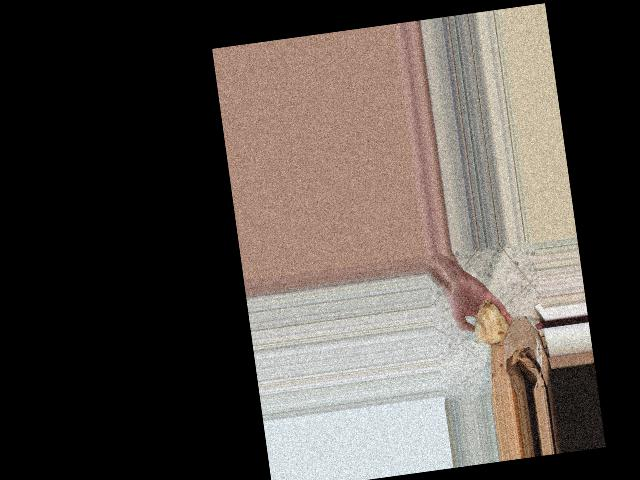onion: (470, 300, 513, 350)
